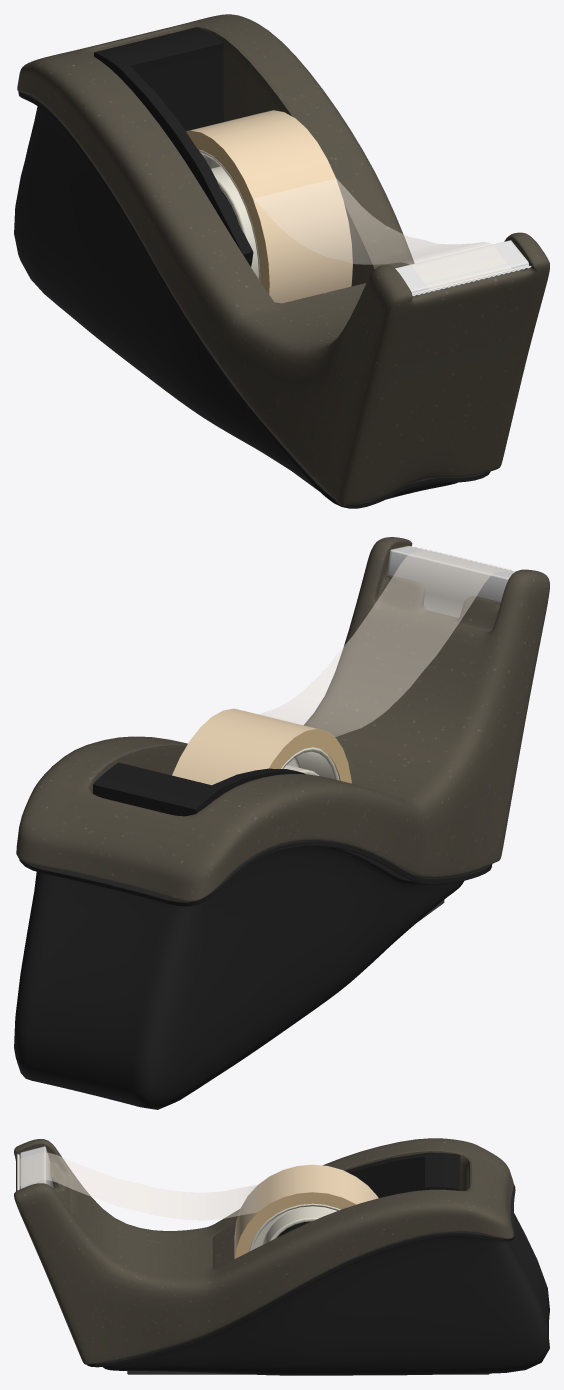
3 renders of one model, top to bottom at view 1: azimuth 30°, elevation 25°; view 2: azimuth 150°, elevation 25°; view 3: azimuth 270°, elevation 25°, orthographic. The views are drawn at different scales.
Visible parts, largest first — view 1: Cube.005_2, Cube.006_3, Cylinder.005_4, Cylinder.008_10, Circle.001_6, Cube.009_9, Cylinder.007_5; view 2: Cube.005_2, Cube.006_3, Cylinder.005_4, Cylinder.008_10, Cube.009_9, Circle.001_6, Cylinder.007_5; view 3: Cube.005_2, Cube.006_3, Cylinder.005_4, Cylinder.008_10, Circle.001_6, Cylinder.007_5, Cube.009_9, Cube.007_7.
Boxes of the visible parts, left/top/right/bottom form: Cube.005_2: left=17, top=14, right=549, bottom=505; Cube.006_3: left=14, top=91, right=490, bottom=508; Cylinder.005_4: left=186, top=110, right=512, bottom=302; Cylinder.008_10: left=186, top=110, right=352, bottom=303; Circle.001_6: left=94, top=27, right=253, bottom=266; Cube.009_9: left=395, top=240, right=531, bottom=296; Cylinder.007_5: left=199, top=150, right=260, bottom=281; Cube.005_2: left=16, top=537, right=549, bottom=901; Cube.006_3: left=14, top=840, right=492, bottom=1109; Cylinder.005_4: left=172, top=550, right=510, bottom=784; Cylinder.008_10: left=172, top=709, right=351, bottom=784; Cube.009_9: left=387, top=546, right=515, bottom=617; Circle.001_6: left=93, top=762, right=305, bottom=816; Cylinder.007_5: left=281, top=747, right=339, bottom=780; Cube.005_2: left=14, top=1138, right=513, bottom=1364; Cube.006_3: left=87, top=1184, right=549, bottom=1375; Cylinder.005_4: left=17, top=1152, right=378, bottom=1258; Cylinder.008_10: left=234, top=1164, right=377, bottom=1258; Circle.001_6: left=277, top=1152, right=460, bottom=1237; Cylinder.007_5: left=248, top=1203, right=340, bottom=1251; Cube.009_9: left=17, top=1146, right=54, bottom=1190; Cube.007_7: left=127, top=1371, right=247, bottom=1374.
Bounding box in the file's own units: 0.0522 × 0.0661 × 0.1651.
Materials: 10 (1 with a texture image).
